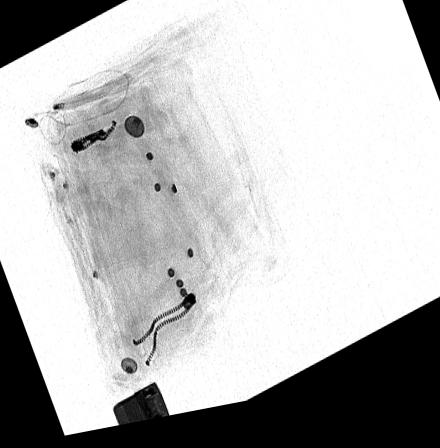Lighter: (111, 387, 169, 430)
